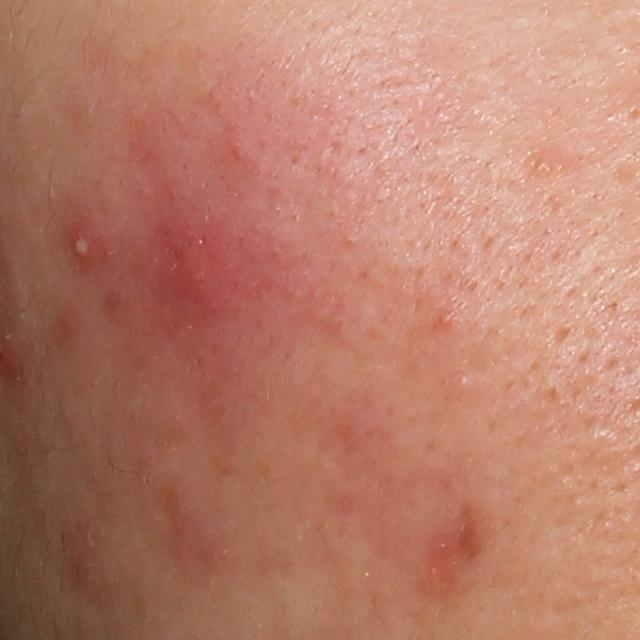comedo: (535, 155, 557, 177), (452, 373, 470, 387)
pustule: (63, 212, 116, 270)
